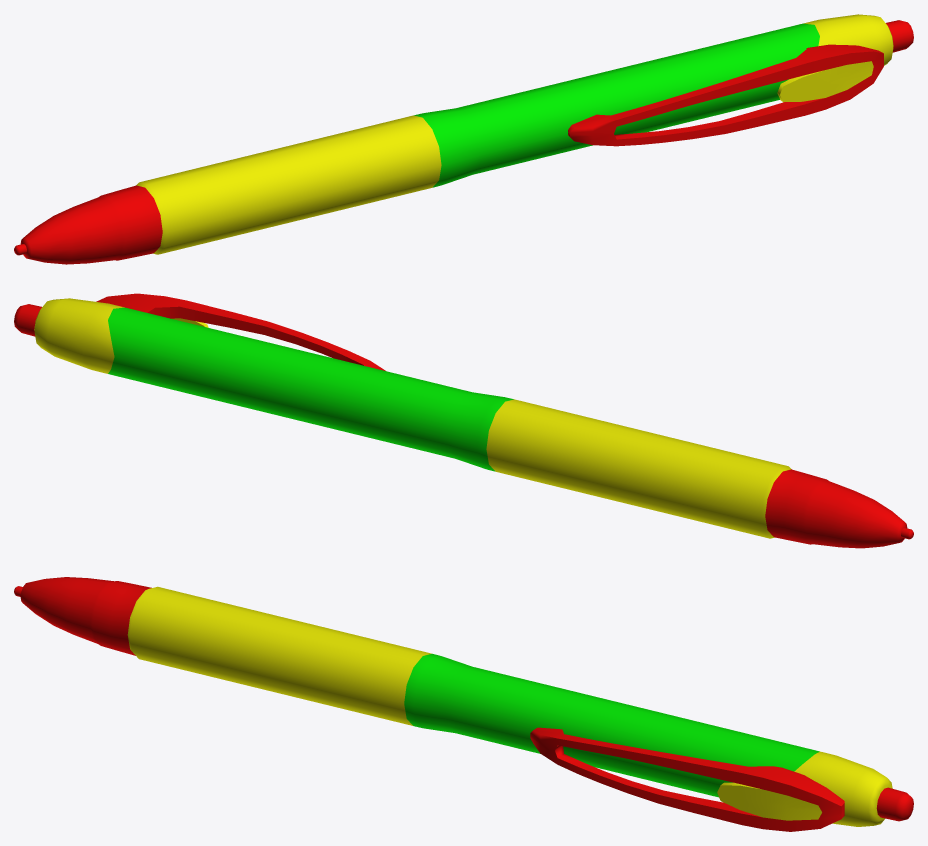
Rendered from thorkea_pens_grp.fbx.
The picture shows the model from 3 angles, top to bottom: view 1: azimuth 30°, elevation 25°; view 2: azimuth 150°, elevation 25°; view 3: azimuth 330°, elevation 25°; orthographic projection.
Visible parts, largest first — view 1: thorkea_pen_signo; view 2: thorkea_pen_signo; view 3: thorkea_pen_signo.
Part boxes in pixels (<box>): thorkea_pen_signo: <box>14,14,913,264</box>; thorkea_pen_signo: <box>14,293,913,548</box>; thorkea_pen_signo: <box>14,577,913,831</box>.
Bounding box in the file's own units: 13.97 × 1.01 × 1.42.
